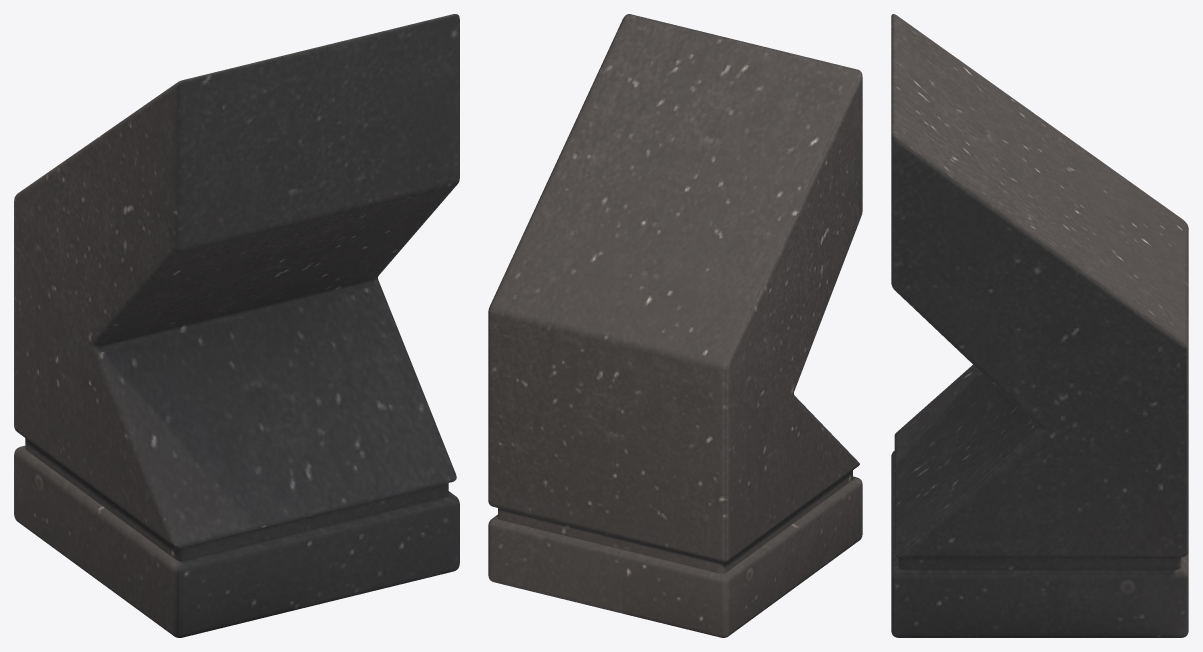
File: b-knight.glb
The picture shows the model from 3 angles, left to right: view 1: azimuth 30°, elevation 25°; view 2: azimuth 150°, elevation 25°; view 3: azimuth 270°, elevation 25°; orthographic projection. The views are drawn at different scales.
Parts seen in each view (by area): view 1: b-knight; view 2: b-knight; view 3: b-knight.
Part boxes in pixels (x1=…): b-knight: x1=14, y1=14, x2=459, y2=637; b-knight: x1=488, y1=14, x2=862, y2=637; b-knight: x1=891, y1=14, x2=1188, y2=637.
Bounding box in the file's own units: 0.508 × 0.9477 × 0.508.
1 material, 1 textured.
